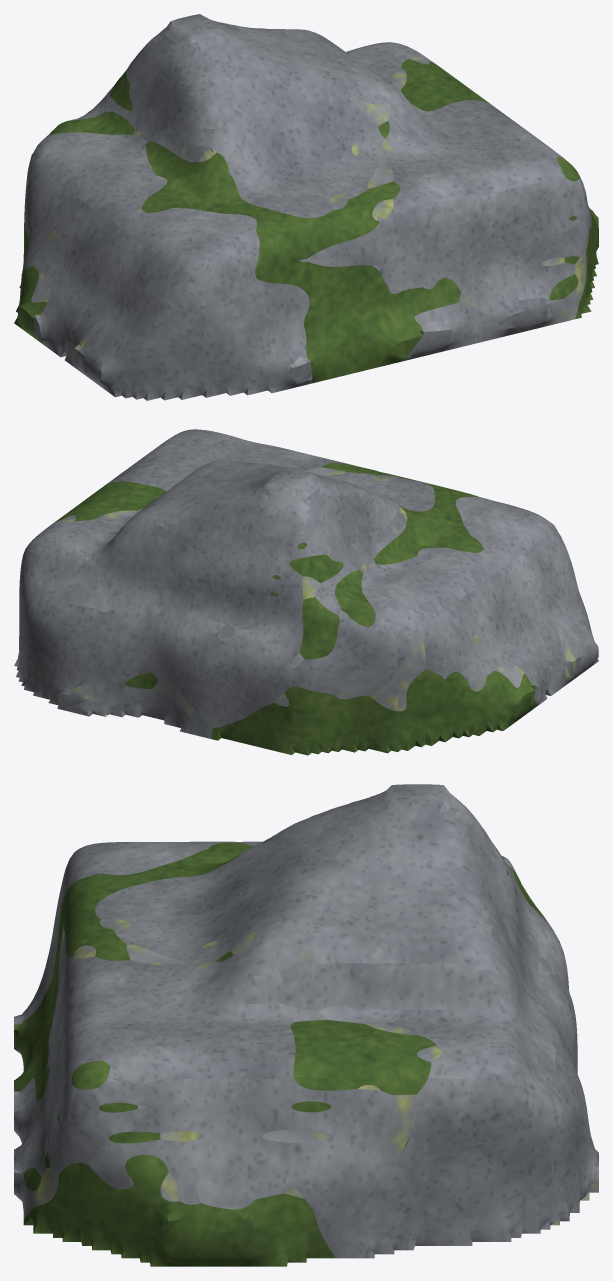
File: ruin_rubble_cluster.glb
The picture shows the model from 3 angles, top to bottom: view 1: azimuth 30°, elevation 25°; view 2: azimuth 150°, elevation 25°; view 3: azimuth 270°, elevation 25°; orthographic projection. The views are drawn at different scales.
Visible parts, largest first — view 1: wilds_ruins_ruin_rubble_cluster; view 2: wilds_ruins_ruin_rubble_cluster; view 3: wilds_ruins_ruin_rubble_cluster.
Part boxes in pixels (x1,y1,x2,y2): wilds_ruins_ruin_rubble_cluster: (14, 14, 598, 400); wilds_ruins_ruin_rubble_cluster: (14, 429, 598, 755); wilds_ruins_ruin_rubble_cluster: (14, 784, 598, 1266).
Size of the model in its own units: 0.9896 by 0.4297 by 0.7812.
Materials: 3 (3 with a texture image).
